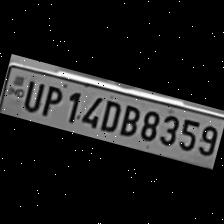1: (57, 86, 86, 125)
3: (154, 109, 182, 149)
4: (76, 90, 106, 131)
5: (173, 113, 201, 154)
8: (134, 104, 164, 146)
9: (194, 120, 222, 158)
B: (114, 100, 142, 140)
D: (96, 95, 124, 136)
P: (36, 80, 66, 120)
U: (18, 76, 46, 114)
